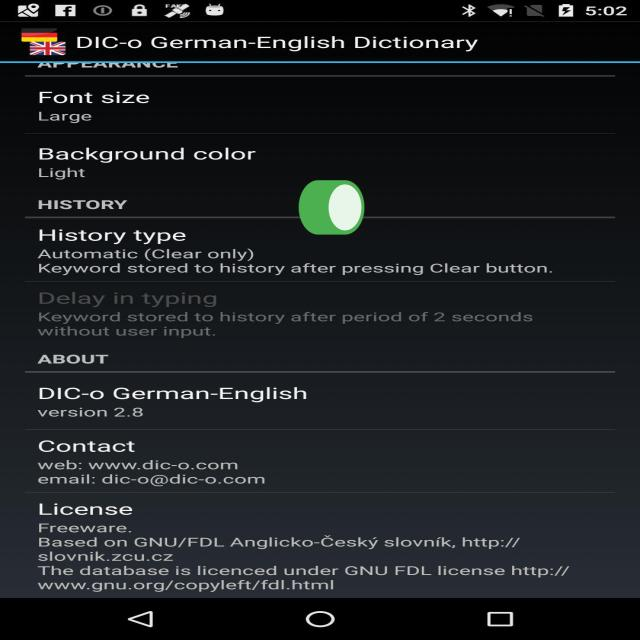social proof: (296, 159, 367, 260)
